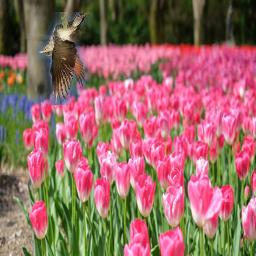Cuckoo: (37, 13, 115, 106)
